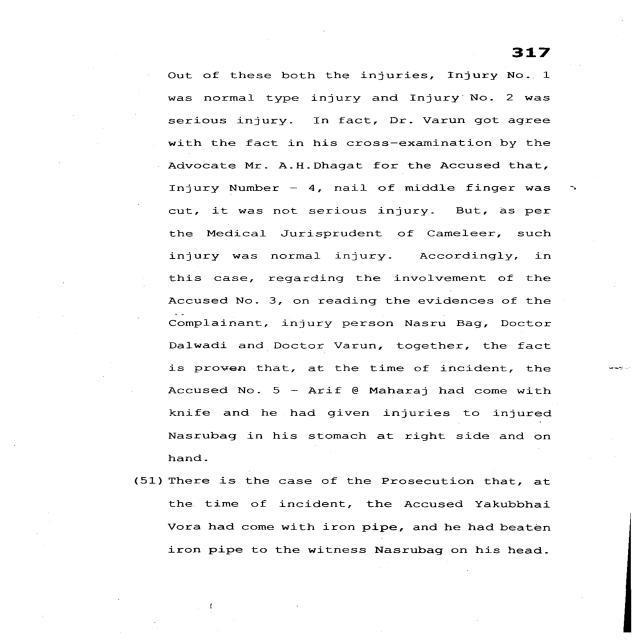page-number: (424, 1, 636, 64)
